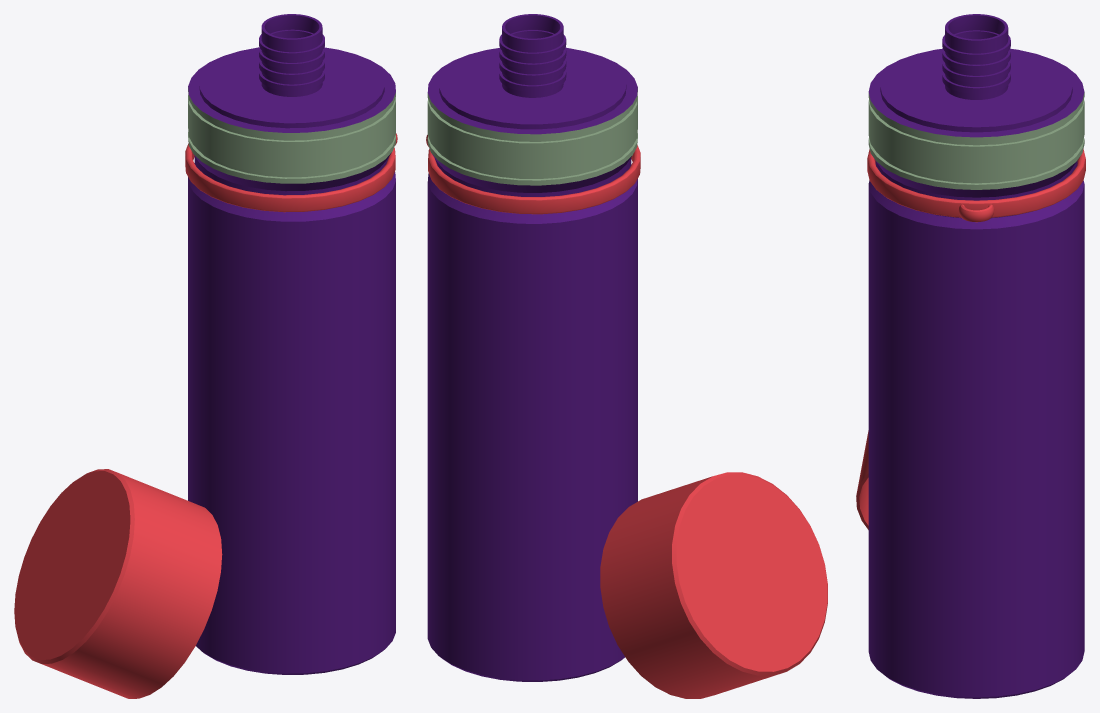
Rendered from water_bottle.glb.
3 renders of one model, left to right at view 1: azimuth 30°, elevation 25°; view 2: azimuth 150°, elevation 25°; view 3: azimuth 270°, elevation 25°, orthographic. The views are drawn at different scales.
Visible parts, largest first — view 1: Bottle_0, Cylinder.002_1, Cylinder.001_3, Torus.001_2; view 2: Bottle_0, Cylinder.002_1, Cylinder.001_3, Torus.001_2; view 3: Bottle_0, Cylinder.001_3, Torus.001_2, Cylinder.002_1.
Part boxes in pixels (x1,y1,x2,y2): Bottle_0: (188, 14, 395, 674); Cylinder.002_1: (14, 469, 222, 698); Cylinder.001_3: (188, 87, 395, 183); Torus.001_2: (185, 133, 397, 212); Bottle_0: (427, 14, 637, 681); Cylinder.002_1: (600, 472, 827, 698); Cylinder.001_3: (427, 87, 637, 185); Torus.001_2: (426, 135, 640, 214); Bottle_0: (868, 14, 1084, 698); Cylinder.001_3: (868, 92, 1084, 189); Torus.001_2: (867, 149, 1085, 222); Cylinder.002_1: (856, 430, 868, 529).
Bounding box in the file's own units: 4.07 × 6.54 × 2.13.
